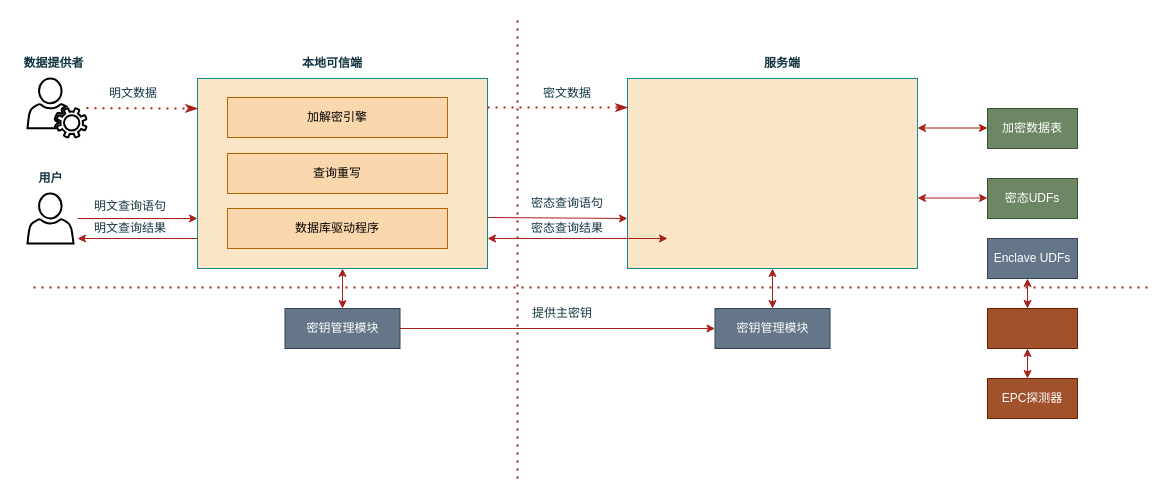
This 1167x497 diagram has some shape labels left out. Each missing label, with the centre of its shape:
仅系统表上元数据增加的DBMS （例如Postgres）: the point at 772,173
动态决策器: the point at 1032,328
